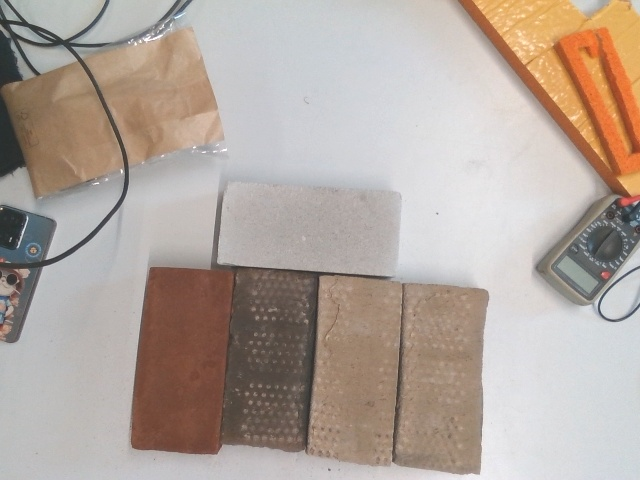brick: (130, 267, 234, 451), (219, 177, 401, 276), (307, 278, 402, 460), (222, 266, 316, 449), (396, 282, 487, 470)
